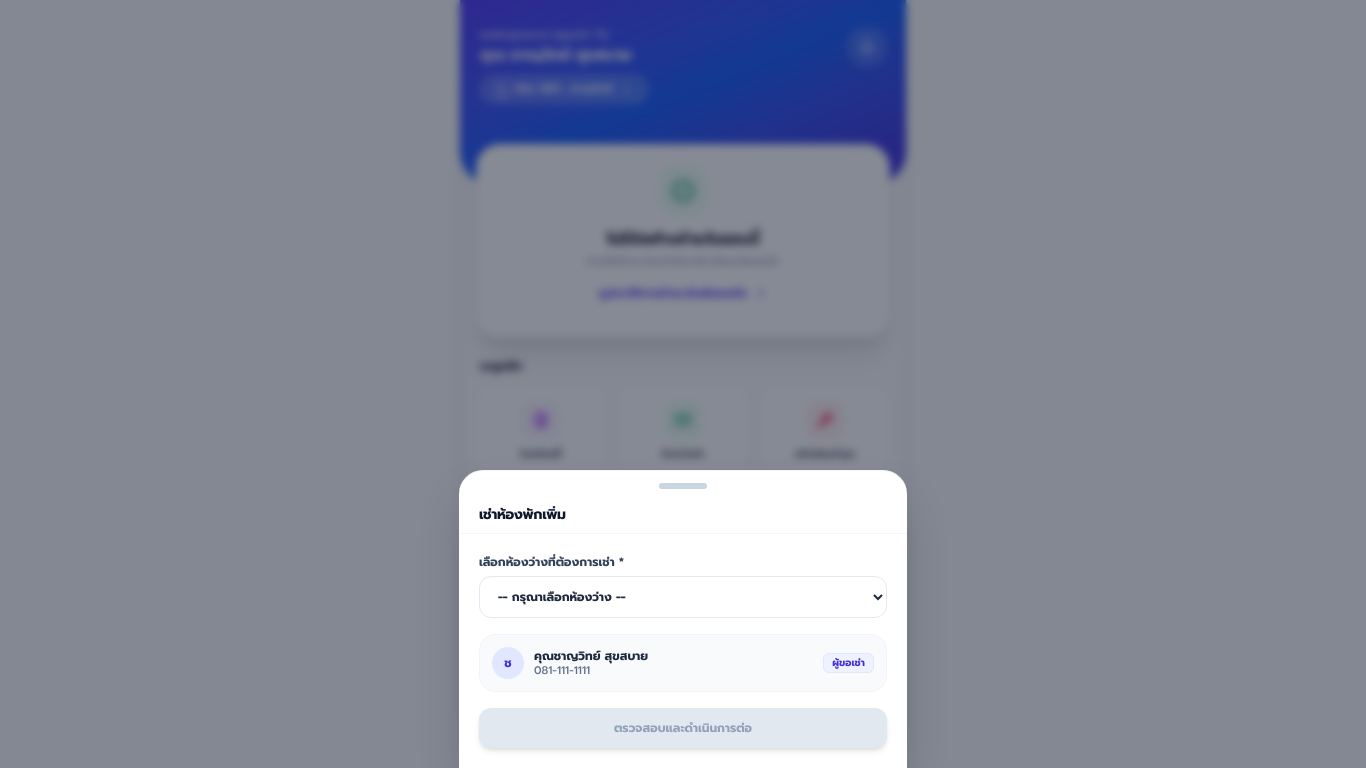
Test: Tenant Portal Phase 2: Smart Single-Tab Add Room & Multi-Room Workflow › Smart Case B: when room has no pre-added data, clicking proceed transitions to "ตรวจสอบ" screen for owner approval
# Select room 305
Select "ห้อง 305 • ชาญวิทย์" in the dropdown at [683, 597], box top-left (479, 576), bottom-right (887, 618)
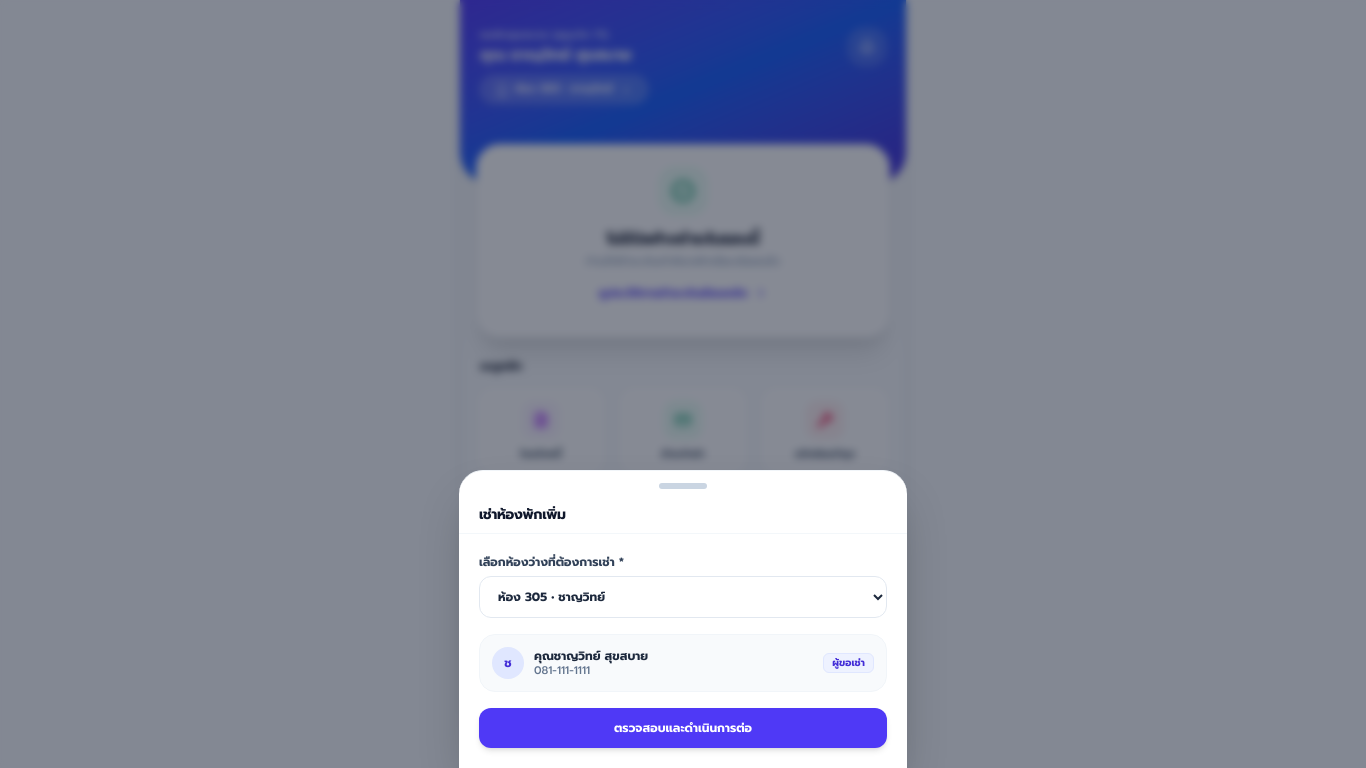
# Click "ตรวจสอบและดำเนินการต่อ"
Click the button "ตรวจสอบและดำเนินการต่อ" at [683, 728], box top-left (479, 708), bottom-right (887, 748)
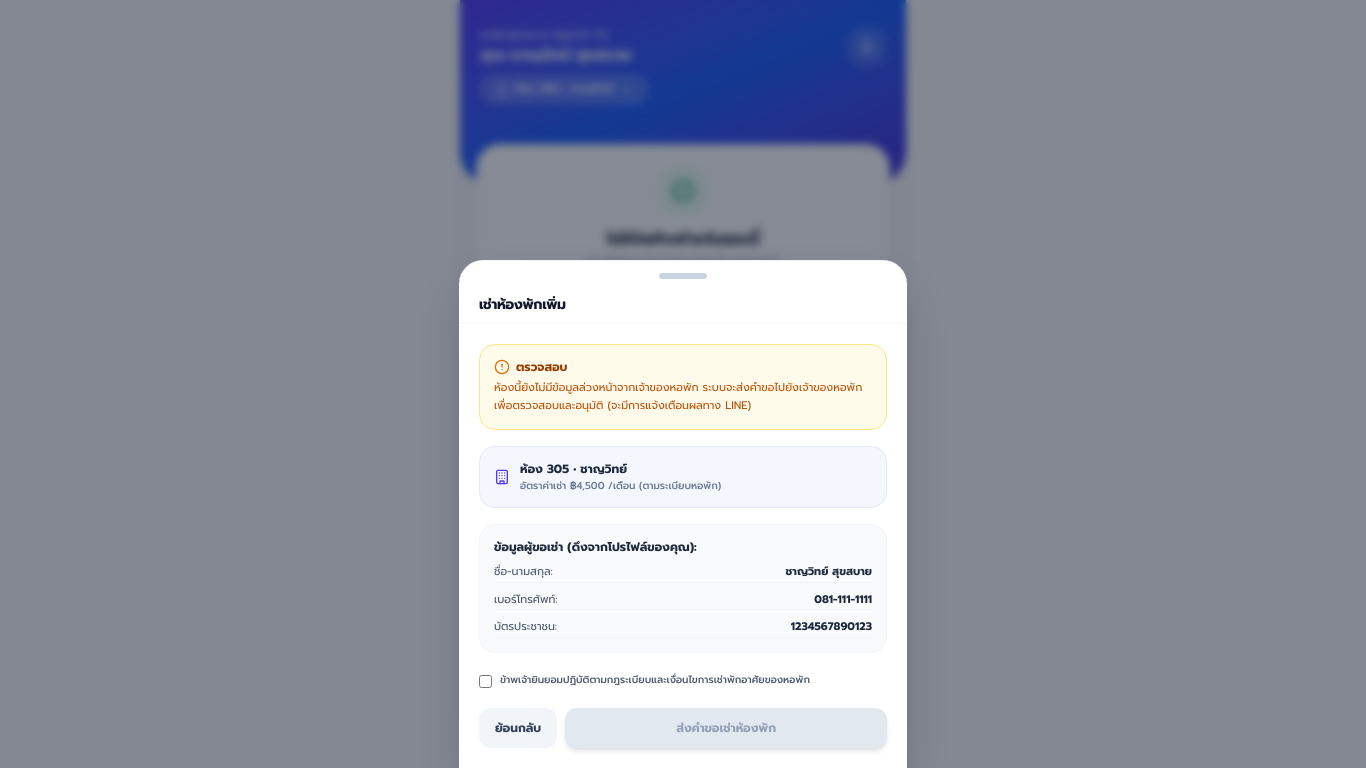
Expected: the text "ตรวจสอบ" is shown, top-left (516, 359), bottom-right (568, 375)
Expected: the text "ห้องนี้ยังไม่มีข้อมูลล่วงหน้าจากเจ้าของหอพัก" is shown, top-left (494, 379), bottom-right (862, 414)
Expected: the text "ห้อง 305 • ชาญวิทย์" is shown, top-left (520, 460), bottom-right (627, 478)
